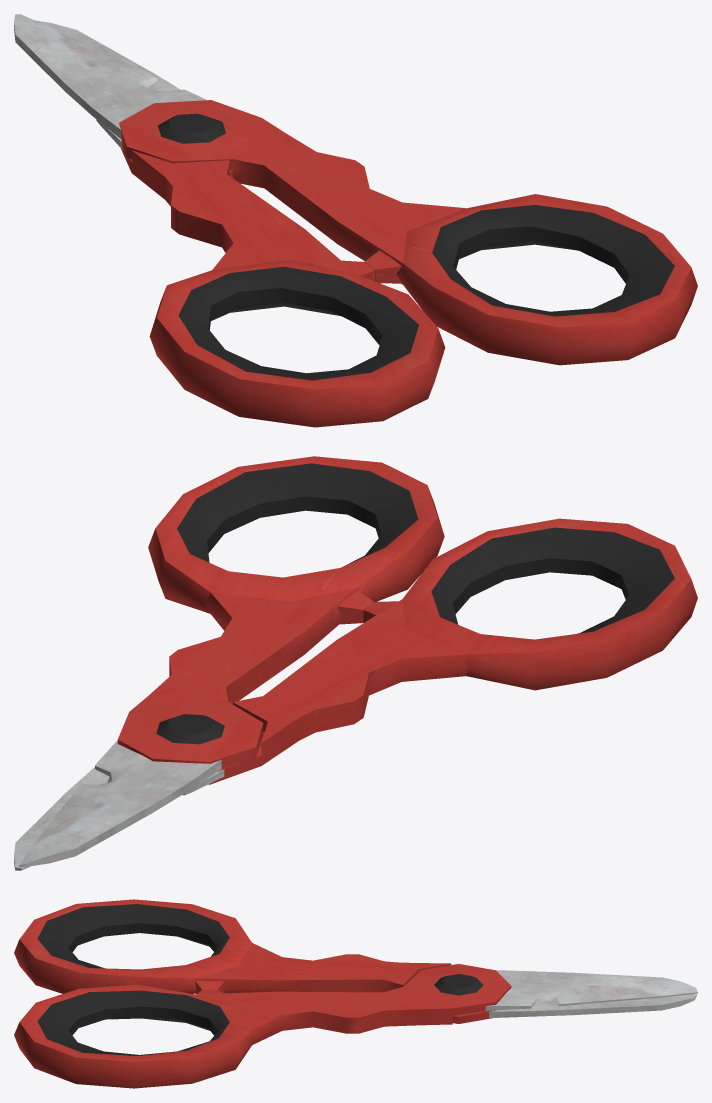
File: extra_scissors.fbx
3 views of the same model, one above another, from view 1: azimuth 30°, elevation 25°; view 2: azimuth 150°, elevation 25°; view 3: azimuth 270°, elevation 25° (orthographic). The views are drawn at different scales.
Parts seen in each view (by area): view 1: scissor_part1, scissor_part2; view 2: scissor_part1, scissor_part2; view 3: scissor_part1, scissor_part2.
Part boxes in pixels (box(x1,y1,x2,y2)): scissor_part1: box(14, 14, 697, 365); scissor_part2: box(35, 20, 445, 427); scissor_part1: box(19, 456, 444, 867); scissor_part2: box(14, 518, 697, 870); scissor_part1: box(14, 964, 697, 1088); scissor_part2: box(14, 899, 696, 1023).
Size of the model in its own units: 0.0909 by 0.00731 by 0.1571.
